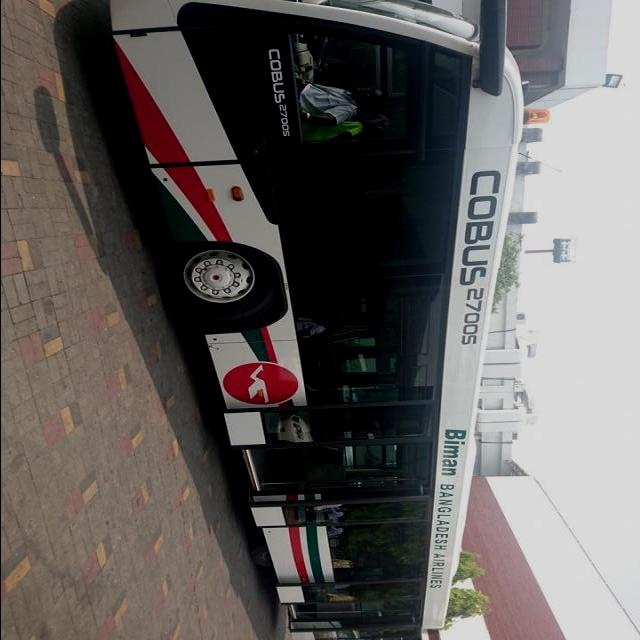bus: (107, 1, 551, 633)
